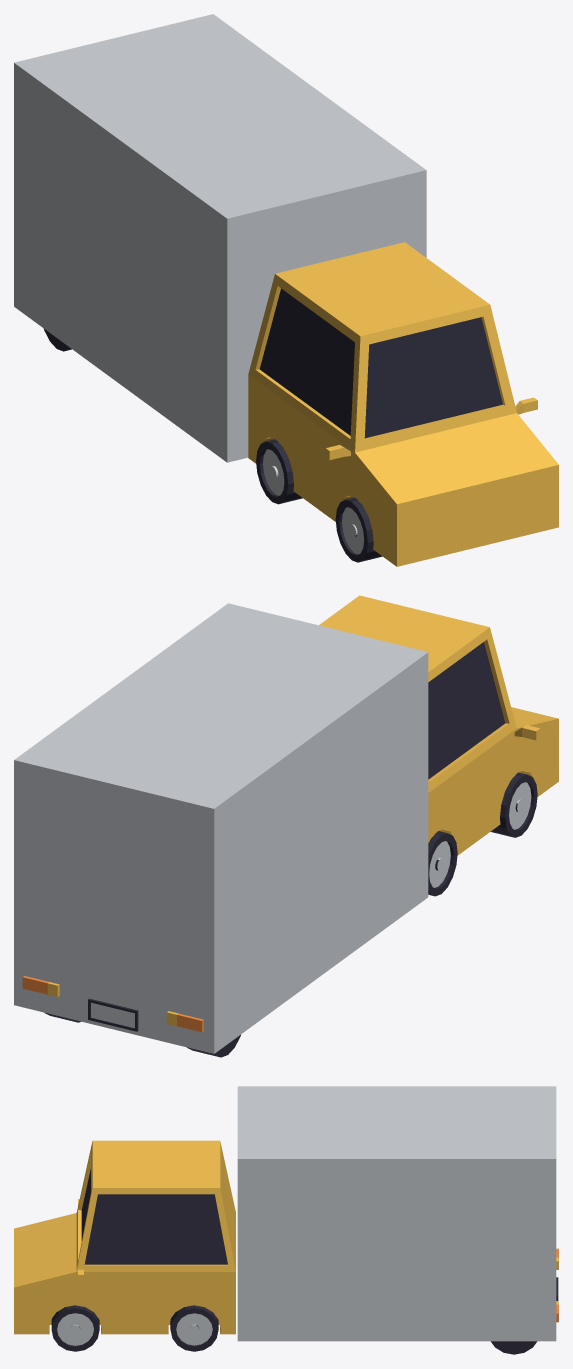
The model's file is truck.fbx.
The picture shows the model from 3 angles, top to bottom: view 1: azimuth 30°, elevation 25°; view 2: azimuth 150°, elevation 25°; view 3: azimuth 270°, elevation 25°; orthographic projection. The views are drawn at different scales.
Visible parts, largest first — view 1: Cube.004, Cylinder.004, Cylinder.003; view 2: Cube.004, Cylinder.004, Cylinder.003; view 3: Cube.004, Cylinder.003, Cylinder.004, Cylinder.002.
Part boxes in pixels (<box>): Cube.004: <box>14,14,558,566</box>; Cylinder.004: <box>335,497,382,562</box>; Cylinder.003: <box>256,439,302,504</box>; Cube.004: <box>14,595,558,1053</box>; Cylinder.004: <box>490,772,537,837</box>; Cylinder.003: <box>428,831,457,896</box>; Cube.004: <box>14,1086,558,1341</box>; Cylinder.003: <box>170,1305,218,1351</box>; Cylinder.004: <box>51,1305,99,1351</box>; Cylinder.002: <box>491,1341,537,1354</box>.
Size of the model in its own units: 173 by 214 by 526.
